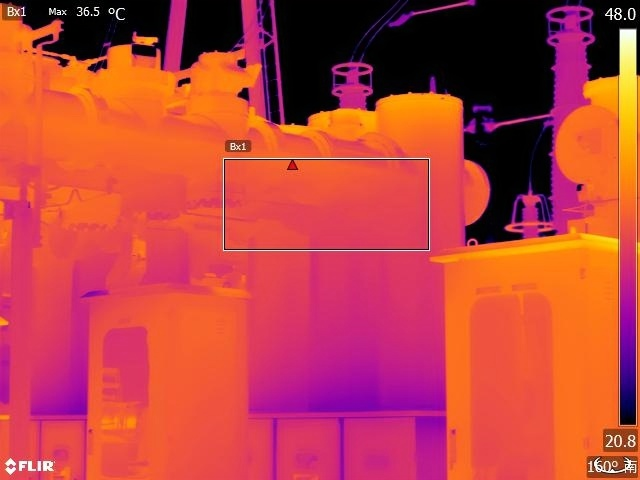lightning arrester: (500, 185, 555, 243)
tube: (542, 1, 599, 230), (327, 54, 380, 108)
